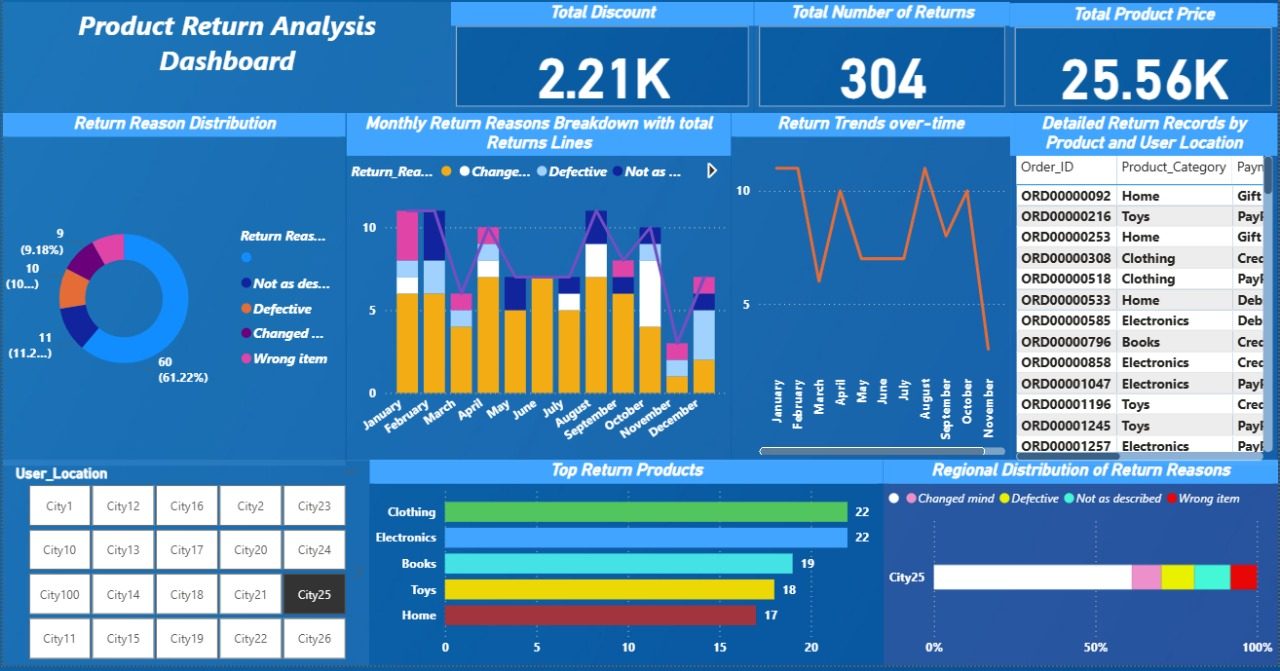

What the dashboard file says about the page in this screenshot:
{"tool":"powerbi","page":{"name":"Page 1","canvas":[1280,720],"ordinal":0},"visuals":[{"type":"donutChart","title":"Return Reason Distribution","fields":{"Category":["Cleaned_Product_Return_Data (2).Return_Reason"],"Y":["CountNonNull(Cleaned_Product_Return_Data (2).User_ID)"]},"box":[0,164.6,344.4,354.4],"z":0},{"type":"clusteredBarChart","title":"Top Return Products","fields":{"Category":["Cleaned_Product_Return_Data (2).Product_Category"],"Y":["CountNonNull(Cleaned_Product_Return_Data (2).Order_ID)"]},"box":[367.9,514,515.7,206.6],"z":1000},{"type":"hundredPercentStackedBarChart","title":"Regional Distribution of Return Reasons","fields":{"Category":["Cleaned_Product_Return_Data (2).User_Location"],"Y":["CountNonNull(Cleaned_Product_Return_Data (2).Order_ID)"],"Series":["Cleaned_Product_Return_Data (2).Return_Reason"]},"box":[883.6,514,396.4,206.6],"z":2000},{"type":"tableEx","title":"Detailed Return Records by Product and User Location","fields":{"Values":["Cleaned_Product_Return_Data (2).Order_ID","Cleaned_Product_Return_Data (2).Product_Category","Cleaned_Product_Return_Data (2).Payment_Method","Cleaned_Product_Return_Data (2).User_Location","Cleaned_Product_Return_Data (2).User_Gender","Cleaned_Product_Return_Data (2).Return_Date.Variation.Date Hierarchy.Month"]},"box":[1011.2,164.6,268.8,354.4],"z":3000},{"type":"lineChart","title":"Return Trends over-time","fields":{"Category":["Cleaned_Product_Return_Data (2).Order_Date.Variation.Date Hierarchy.Month"],"Y":["CountNonNull(Cleaned_Product_Return_Data (2).Order_ID)"]},"box":[730.7,164.6,280.5,349.4],"z":4000},{"type":"lineStackedColumnComboChart","title":"Monthly Return Reasons Breakdown with total Returns  Lines","fields":{"Y":["CountNonNull(Cleaned_Product_Return_Data (2).Order_ID)"],"Category":["Cleaned_Product_Return_Data (2).Order_Date.Variation.Date Hierarchy.Month","Cleaned_Product_Return_Data (2).Order_Date.Variation.Date Hierarchy.Day"],"Y2":["CountNonNull(Cleaned_Product_Return_Data (2).Order_ID)"],"Series":["Cleaned_Product_Return_Data (2).Return_Reason"]},"box":[344.4,164.6,386.4,349.4],"z":5000},{"type":"slicer","fields":{"Values":["Cleaned_Product_Return_Data (2).User_Location"]},"box":[0,514,367.9,206.6],"z":6000},{"type":"cardVisual","title":"Total Discount","fields":{"Data":["Sum(Cleaned_Product_Return_Data (2).Discount_Applied)"]},"box":[450.2,53.8,304,110.9],"z":7000},{"type":"cardVisual","title":"Total Product Price","fields":{"Data":["Sum(Cleaned_Product_Return_Data (2).Product_Price)"]},"box":[1011.2,55.4,268.8,109.2],"z":8000},{"type":"cardVisual","title":"Total Number of Returns","fields":{"Data":["Sum(Cleaned_Product_Return_Data (2).Order_Quantity)"]},"box":[754.2,53.8,257,110.9],"z":9000},{"type":"textbox","box":[0,53.8,450.2,110.9],"z":10000}]}

Visuals, with their boxes on the page's 1280x720 design canvas (x1, y1, x2, y2). These are canvas units, not pixel positions in the 1280x671 screenshot, which may show the page scaled, cropped or inside an application window:
"Return Reason Distribution" donutChart: box(0, 165, 344, 519)
"Top Return Products" clusteredBarChart: box(368, 514, 884, 721)
"Regional Distribution of Return Reasons" hundredPercentStackedBarChart: box(884, 514, 1280, 721)
"Detailed Return Records by Product and User Location" tableEx: box(1011, 165, 1280, 519)
"Return Trends over-time" lineChart: box(731, 165, 1011, 514)
"Monthly Return Reasons Breakdown with total Returns  Lines" lineStackedColumnComboChart: box(344, 165, 731, 514)
slicer - Cleaned_Product_Return_Data (2).User_Location: box(0, 514, 368, 721)
"Total Discount" cardVisual: box(450, 54, 754, 165)
"Total Product Price" cardVisual: box(1011, 55, 1280, 165)
"Total Number of Returns" cardVisual: box(754, 54, 1011, 165)
textbox: box(0, 54, 450, 165)
